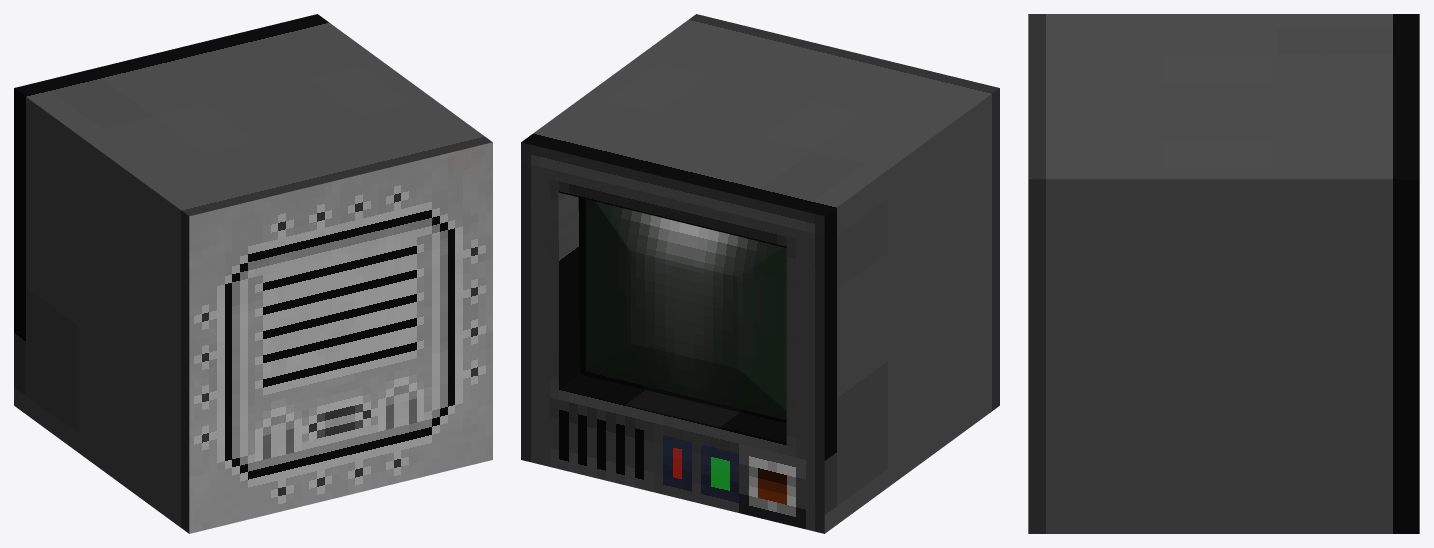
The model's file is television.gltf.
The picture shows the model from 3 angles, left to right: view 1: azimuth 30°, elevation 25°; view 2: azimuth 150°, elevation 25°; view 3: azimuth 270°, elevation 25°; orthographic projection. The views are drawn at different scales.
Visible parts, largest first — view 1: tv; view 2: tv; view 3: tv.
Part boxes in pixels (x1,y1,x2,y2): tv: [14, 14, 492, 533]; tv: [521, 14, 999, 533]; tv: [1028, 14, 1419, 533].
Size of the model in its own units: 0.2503 by 0.2503 by 0.2503.
Materials: 2 (2 with a texture image).
